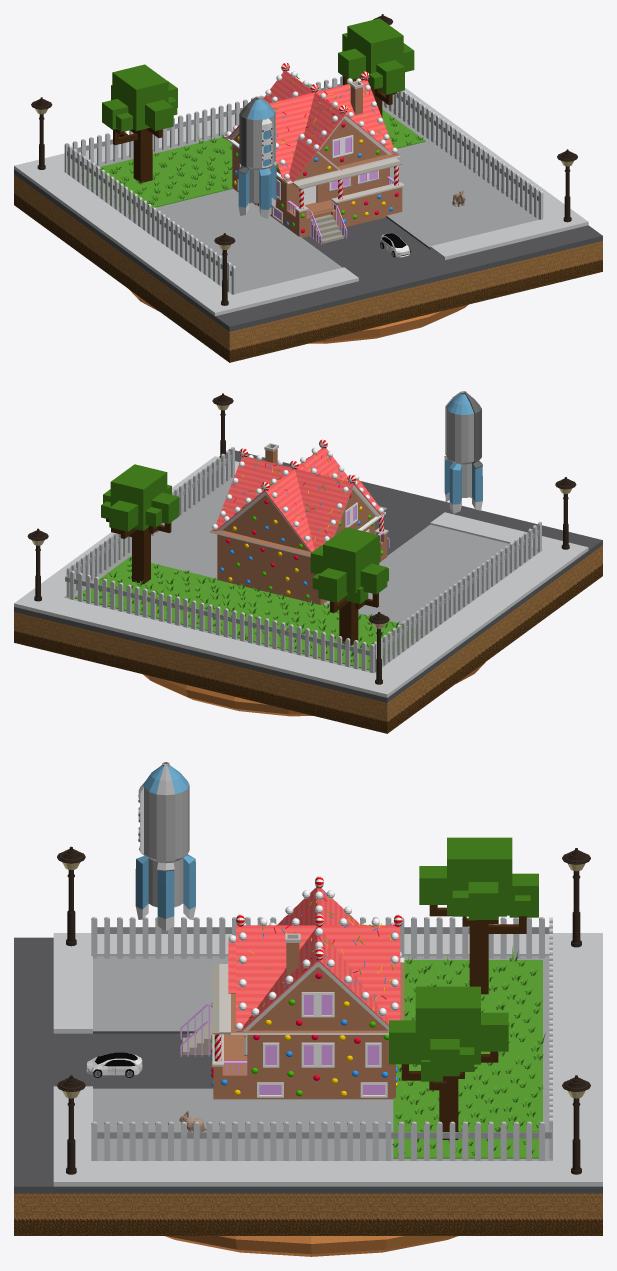
3 views of the same model, one above another, from view 1: azimuth 30°, elevation 25°; view 2: azimuth 150°, elevation 25°; view 3: azimuth 270°, elevation 25° (orthographic). The views are drawn at different scales.
Parts seen in each view (by area): view 1: Cube.004, Cube.1203, OBJRANDOM_ROCKETSHIP, UNDERGROUND_PIZZA, VEHICLES_TESLA; view 2: Cube.004, Cube.1203, OBJRANDOM_ROCKETSHIP, UNDERGROUND_PIZZA; view 3: Cube.004, Cube.1203, OBJRANDOM_ROCKETSHIP, UNDERGROUND_PIZZA, VEHICLES_TESLA.
Boxes of the visible parts, box(x1,y1,x2,y2) form: Cube.004: box(14, 14, 602, 362); Cube.1203: box(224, 62, 404, 244); OBJRANDOM_ROCKETSHIP: box(238, 96, 276, 218); UNDERGROUND_PIZZA: box(129, 289, 468, 343); VEHICLES_TESLA: box(380, 233, 410, 257); Cube.004: box(14, 393, 602, 733); Cube.1203: box(210, 439, 389, 604); OBJRANDOM_ROCKETSHIP: box(444, 391, 482, 513); UNDERGROUND_PIZZA: box(143, 662, 485, 716); Cube.004: box(14, 837, 602, 1235); Cube.1203: box(180, 876, 404, 1099); OBJRANDOM_ROCKETSHIP: box(135, 762, 195, 931); UNDERGROUND_PIZZA: box(165, 1236, 457, 1256); VEHICLES_TESLA: box(86, 1052, 142, 1077).
Bounding box in the file's own units: 4000 × 2381 × 4000.
47 materials, 4 textured.
